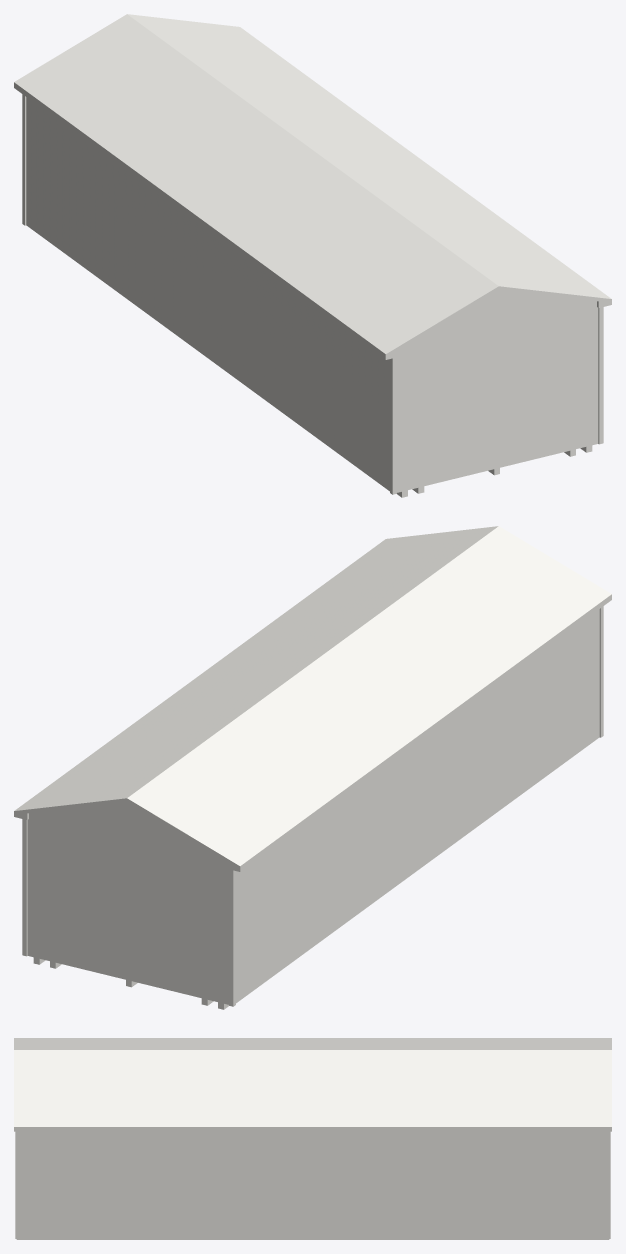
The model's file is 8 wide A-frame_7ft_12x36.obj.
The picture shows the model from 3 angles, top to bottom: view 1: azimuth 30°, elevation 25°; view 2: azimuth 150°, elevation 25°; view 3: azimuth 270°, elevation 25°; orthographic projection. The views are drawn at different scales.
Parts seen in each view (by area): view 1: Roof, Shed, Sides, Trim; view 2: Roof, Shed, Sides, Trim; view 3: Shed, Roof, Sides, Floor, Trim.
Part boxes in pixels (box(x1,y1,x2,y2)): Roof: box(14, 14, 611, 353); Shed: box(26, 97, 598, 492); Sides: box(14, 82, 611, 359); Trim: box(22, 94, 603, 494); Roof: box(14, 526, 611, 865); Shed: box(27, 609, 599, 1004); Sides: box(14, 594, 611, 871); Trim: box(22, 606, 603, 1006); Shed: box(19, 1131, 606, 1238); Roof: box(14, 1038, 611, 1126); Sides: box(14, 1127, 611, 1131); Floor: box(16, 1238, 609, 1239); Trim: box(15, 1131, 610, 1238).
Bounding box in the file's own units: 3.89 × 3.12 × 11.07.
